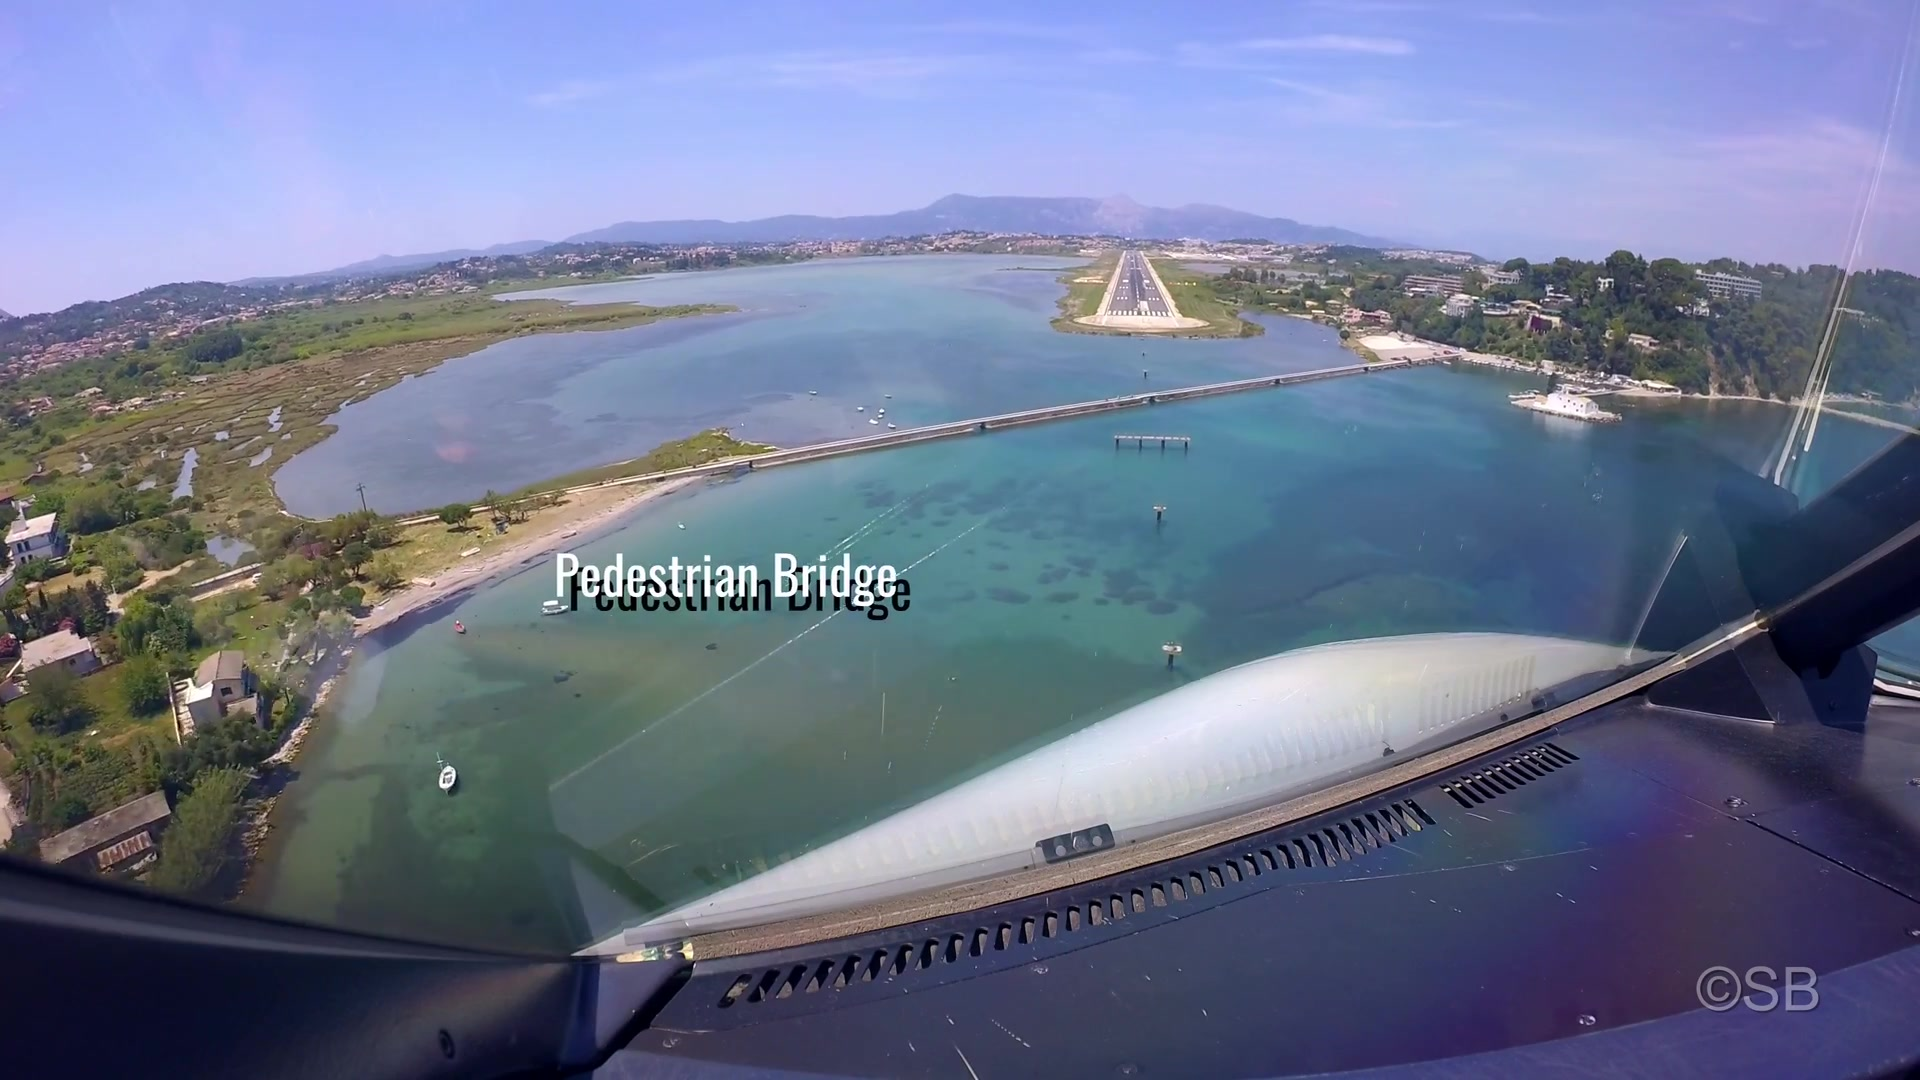entrance: (1104, 309, 1174, 319)
runway: (1098, 252, 1174, 323)
